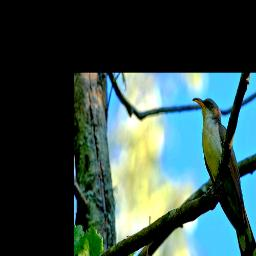Cuckoo: (192, 97, 256, 256)
